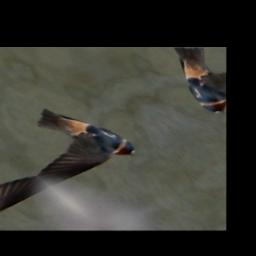Swallow: (0, 93, 146, 192)
